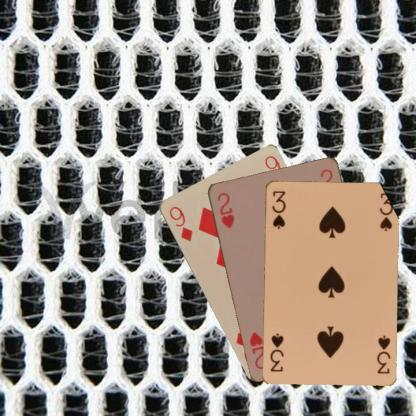2h: (214, 189, 236, 230)
3s: (269, 188, 287, 230), (374, 332, 391, 375)
9d: (166, 203, 193, 243)
